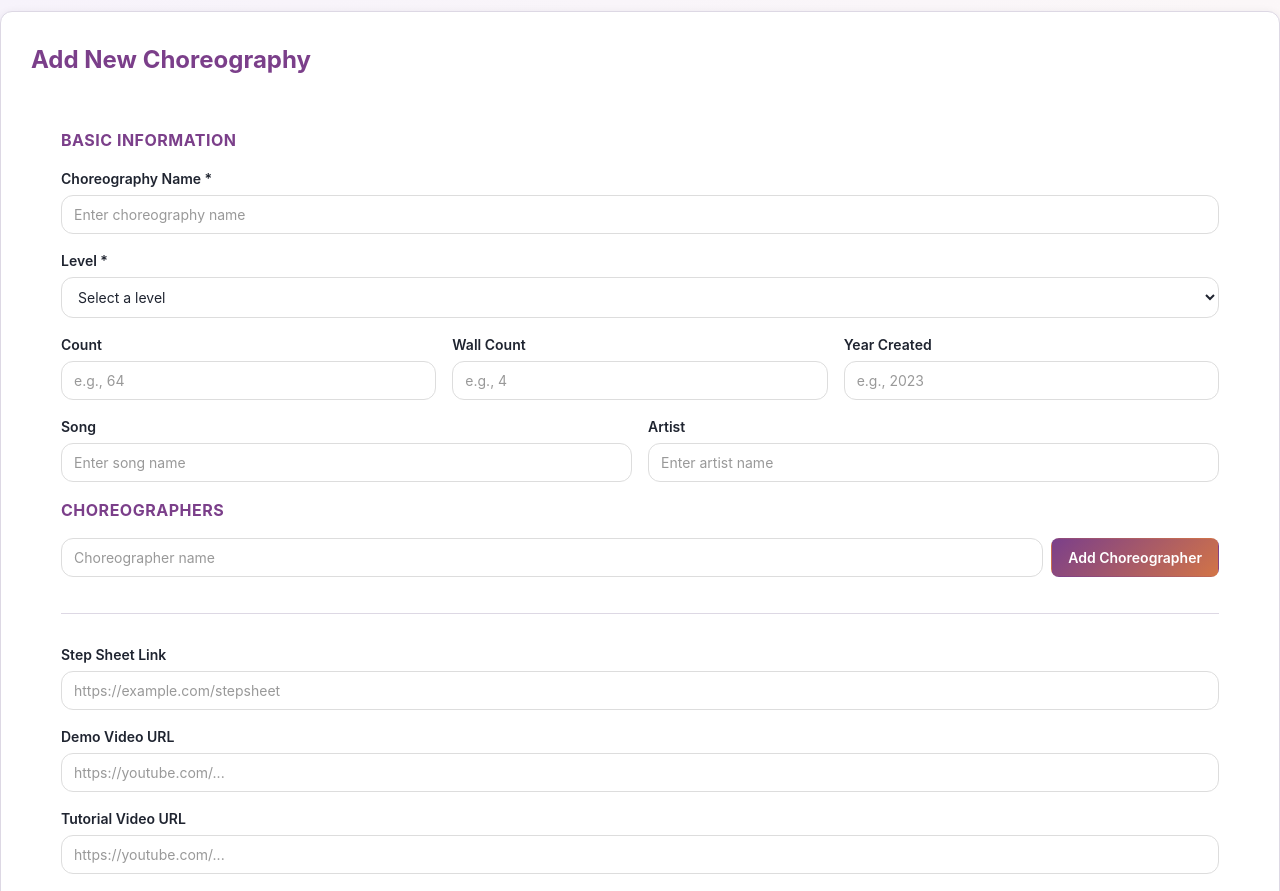
Test: ChoreographyCreatePage › shows duplicate warning and does not save when duplicates are found
The width and height of the screenshot is (1280, 891).
In the field labelled "Choreography Name *": (640, 214) [61, 195, 1219, 234], type "River Dance"
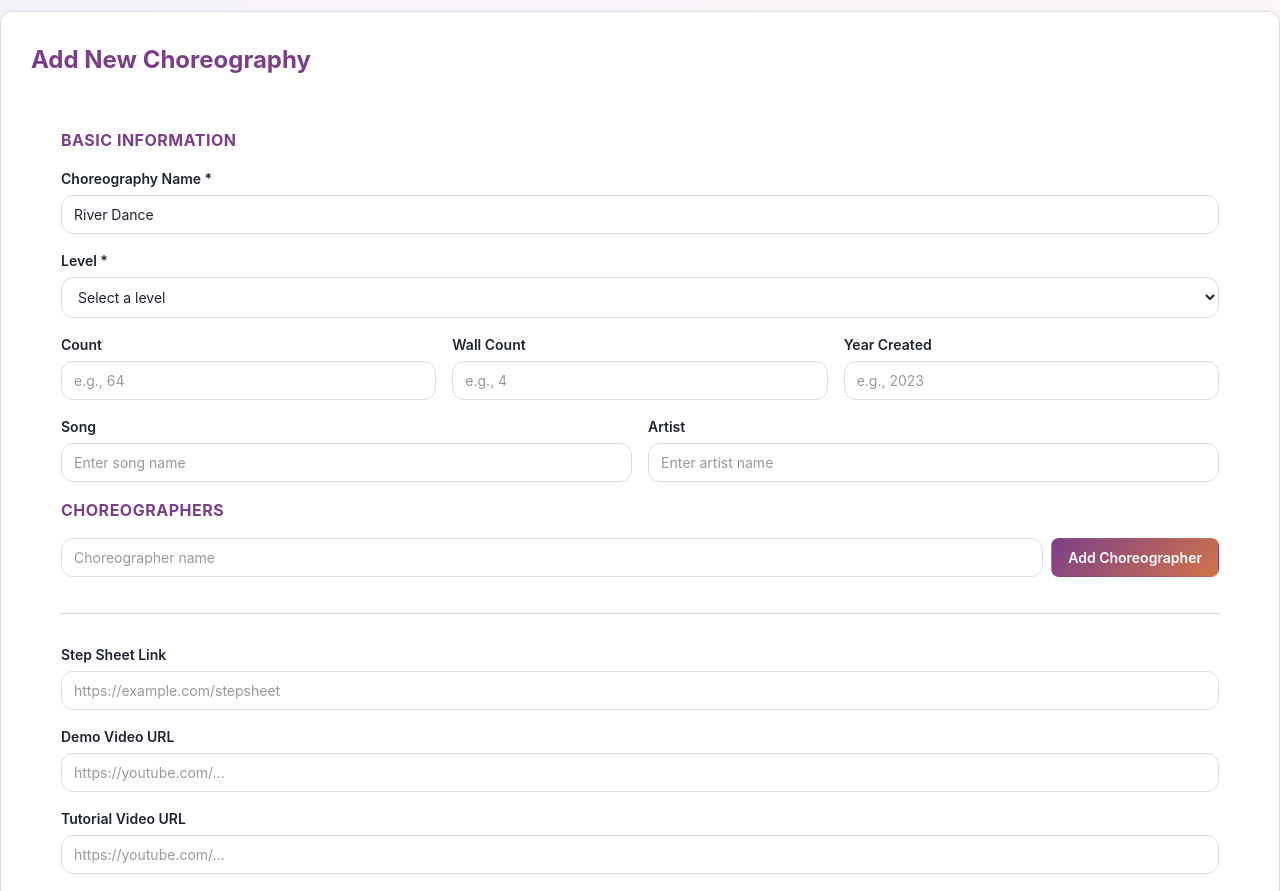
Select "Beginner" in the dropdown labelled "Level *": (640, 298) [61, 277, 1219, 318]
(page scrolled)
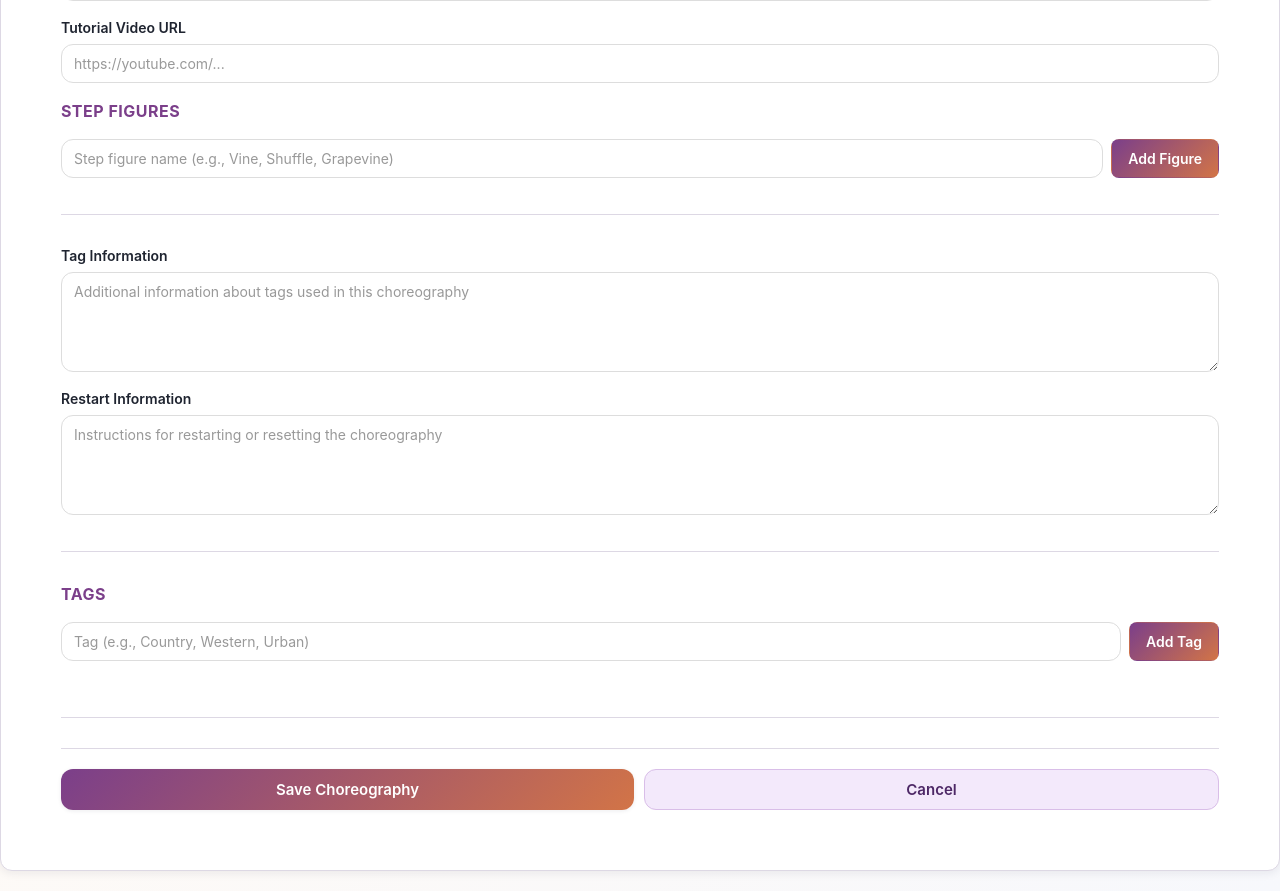
Click the button "Save Choreography": (348, 790) [61, 769, 634, 810]
(page scrolled)
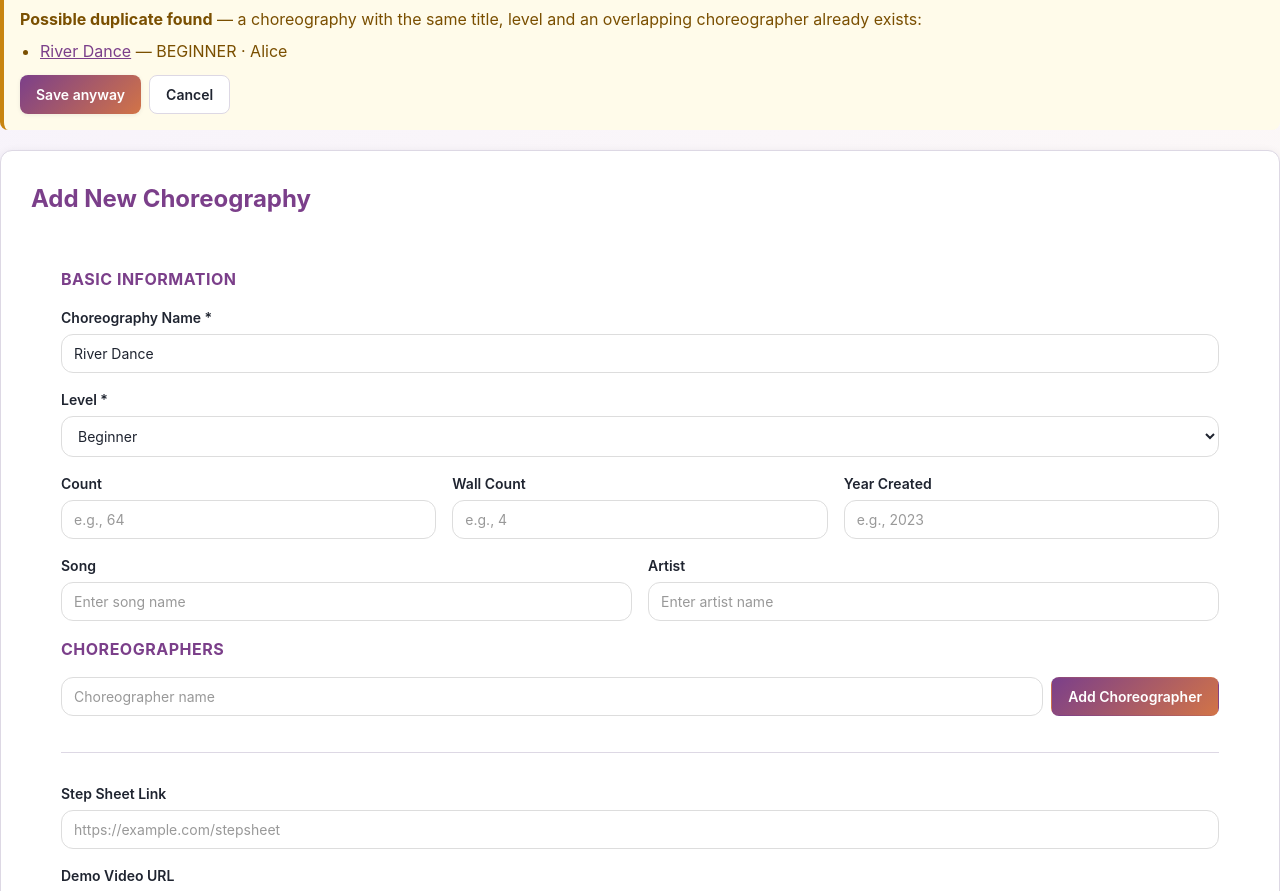
Expected: the text "Possible duplicate found" is shown, [20, 9, 213, 29]
Expected: the link "River Dance" is shown, [40, 41, 131, 61]
